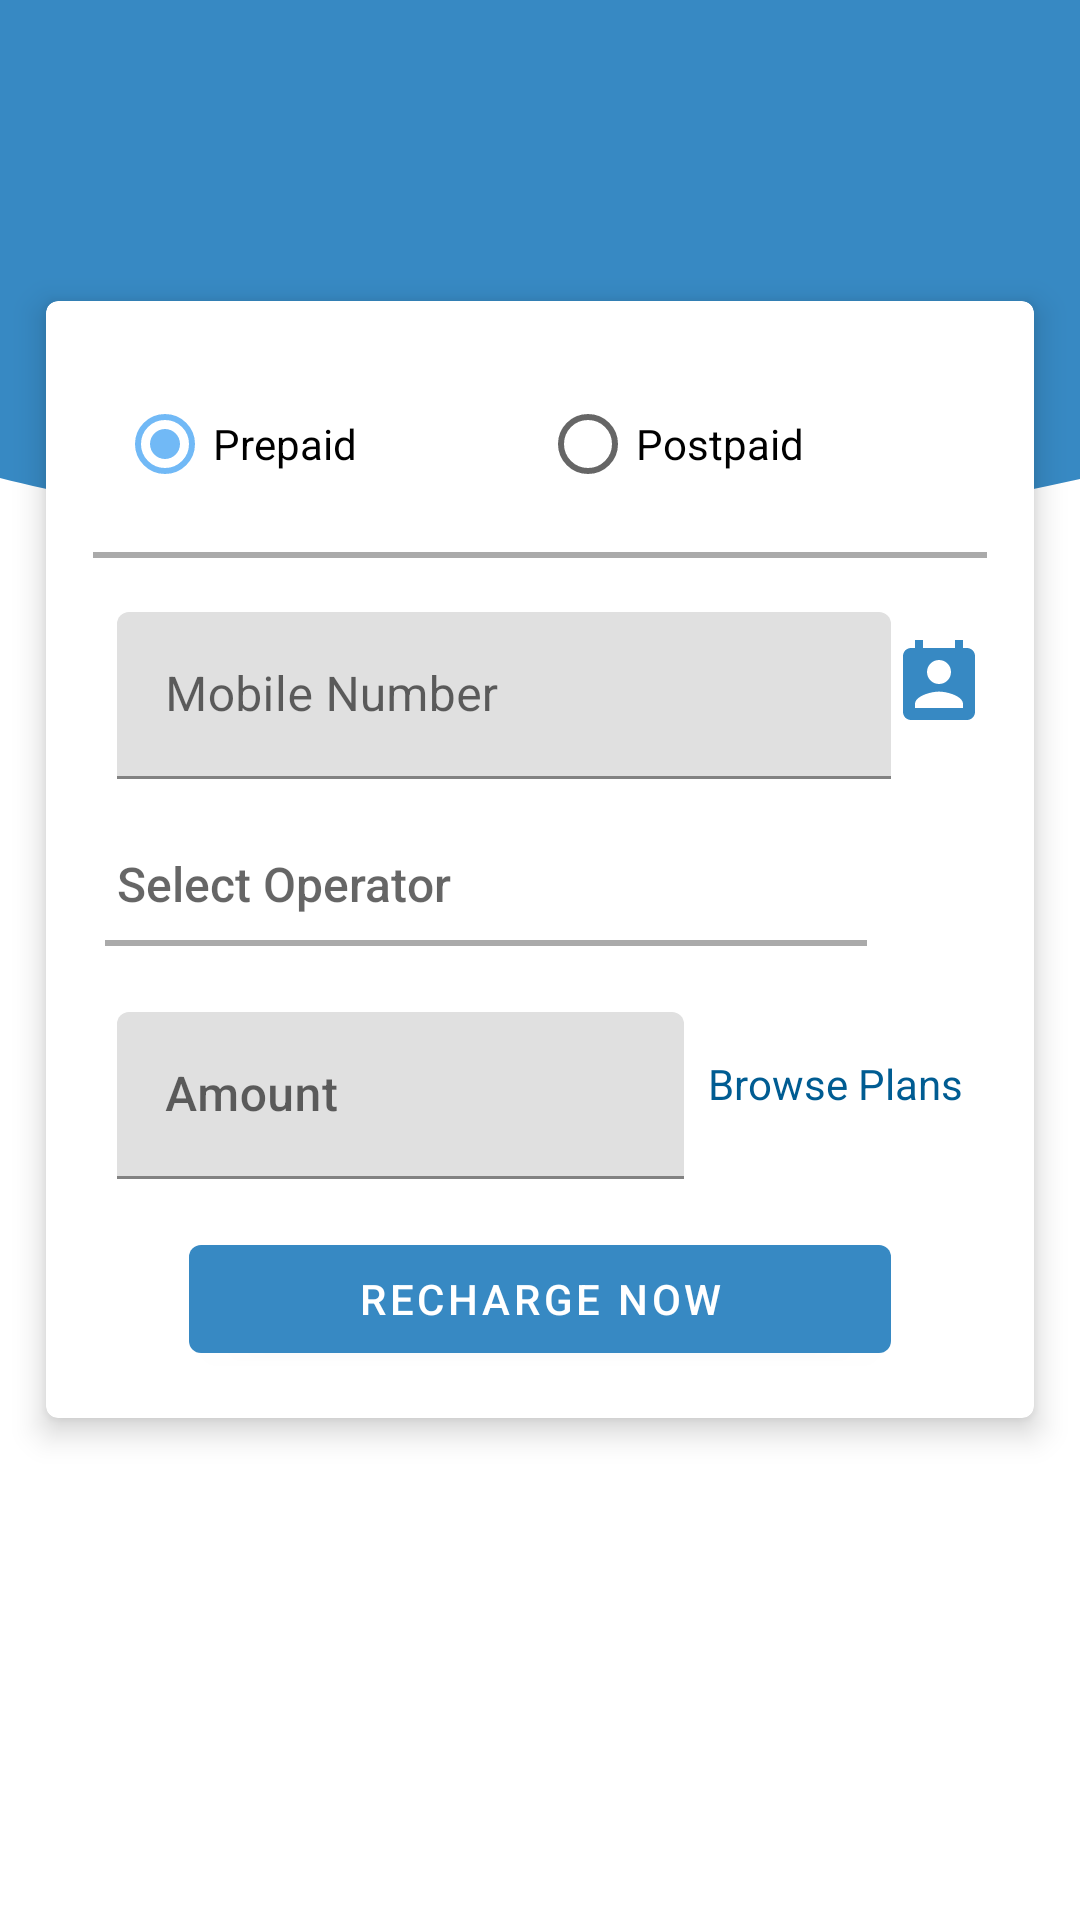

Point at icon controls on the screen. Image size 1080x1920, points as point (x, y).
perm contact calendar: point (939, 680)
